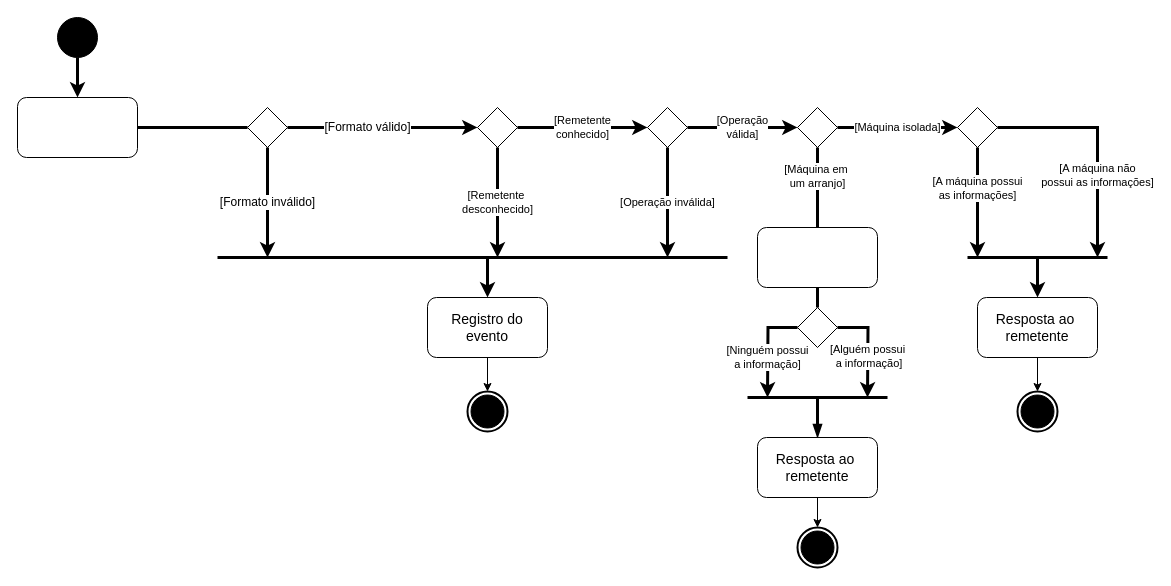
This 1171x586 diagram has some shape labels left out. Each missing label, with the centre of its shape:
"Mensagem recebida" goes at pixel 77 127.
"Requisita a informação a outras máquinas" goes at pixel 817 257.
